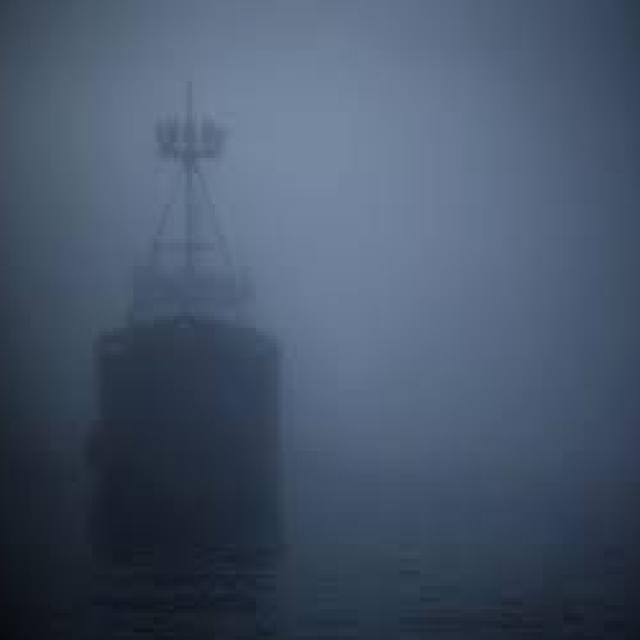fishing boat: (74, 94, 300, 574)
